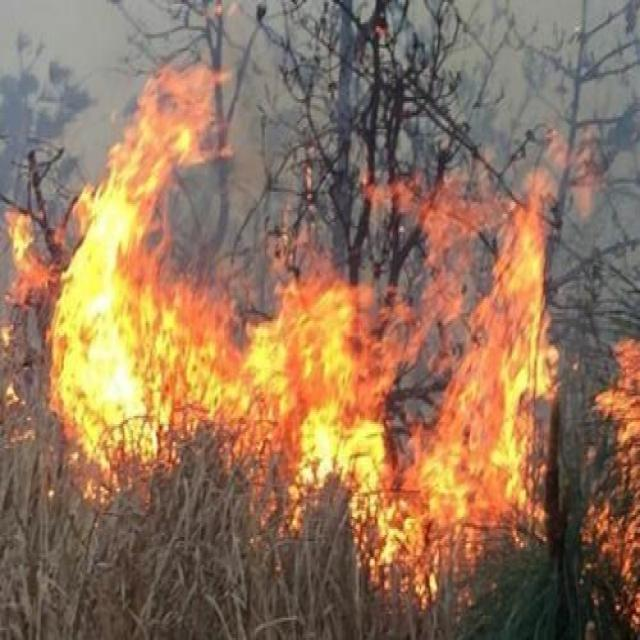fire: (5, 21, 635, 614)
